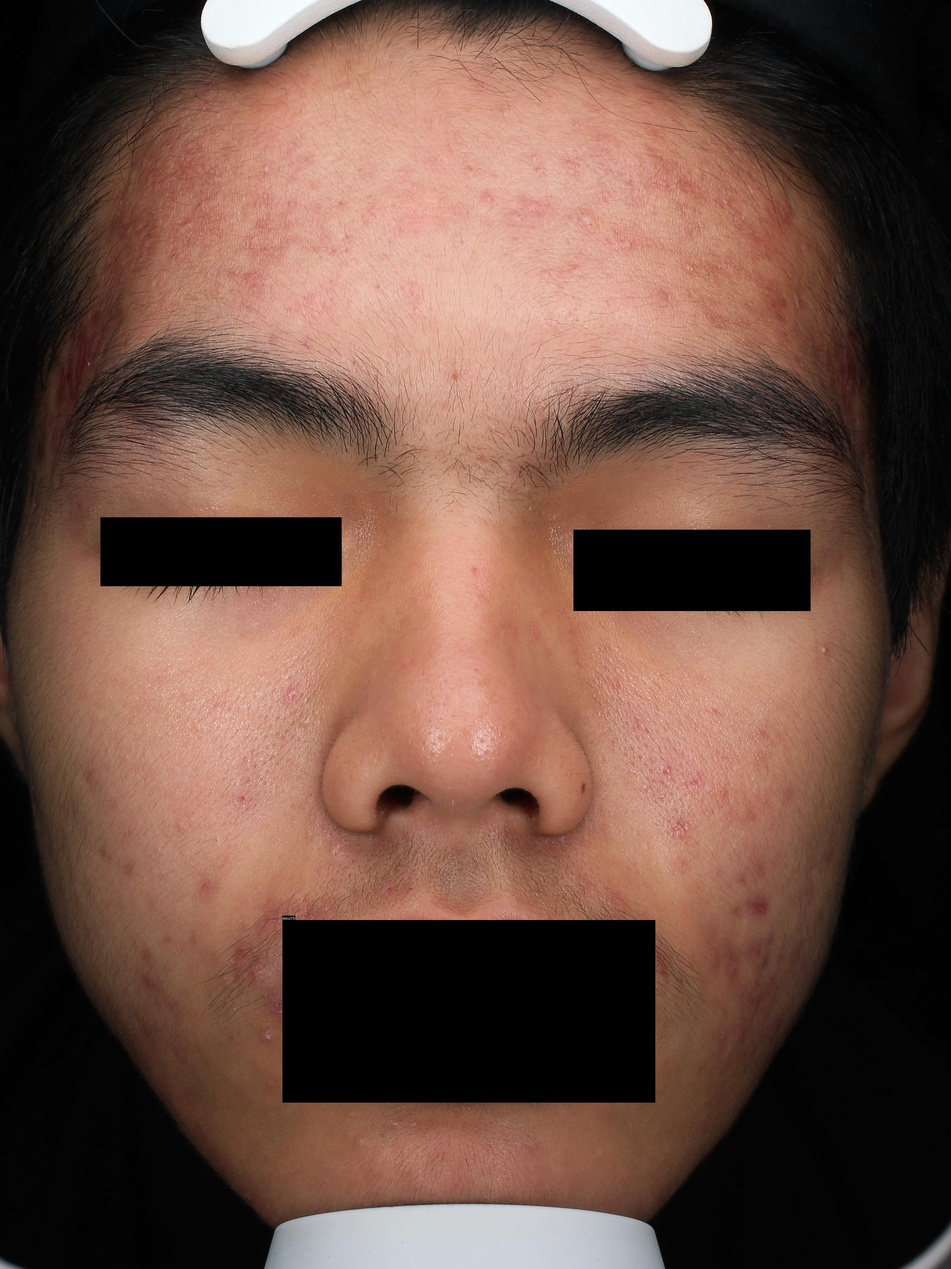atrophic_scar: (52, 311, 110, 426), (757, 935, 774, 982), (675, 175, 705, 199), (726, 940, 744, 977), (711, 945, 725, 975), (732, 905, 746, 917), (688, 777, 701, 788), (234, 795, 246, 806), (632, 715, 643, 726), (463, 165, 475, 173), (297, 105, 303, 114), (343, 246, 348, 254)
closed_comedo: (483, 193, 495, 203), (301, 718, 312, 728), (263, 1078, 274, 1088), (175, 820, 185, 829), (154, 844, 162, 854), (333, 843, 344, 850), (395, 864, 404, 872), (250, 235, 259, 243), (571, 147, 579, 154), (391, 1121, 399, 1127), (530, 154, 536, 161), (263, 167, 269, 174), (288, 758, 294, 764), (641, 785, 648, 790), (610, 811, 615, 817), (289, 200, 294, 206), (242, 195, 247, 201), (530, 227, 536, 232), (195, 725, 199, 732), (747, 624, 752, 629), (347, 1112, 352, 1117), (190, 817, 194, 823), (115, 677, 119, 680), (414, 1121, 416, 1127)
hypertrophic_scar: (542, 255, 602, 284), (521, 200, 546, 215), (579, 212, 597, 226), (356, 1137, 368, 1147), (346, 1131, 355, 1141)
nevus: (577, 778, 586, 795), (451, 371, 463, 381)
open_comedo: (213, 836, 220, 844)
papule: (231, 940, 252, 961), (246, 962, 267, 982), (259, 1026, 274, 1044), (621, 237, 637, 250), (285, 687, 300, 700), (659, 291, 671, 302), (819, 645, 830, 655), (686, 263, 697, 273), (721, 197, 731, 206), (662, 765, 672, 774)
